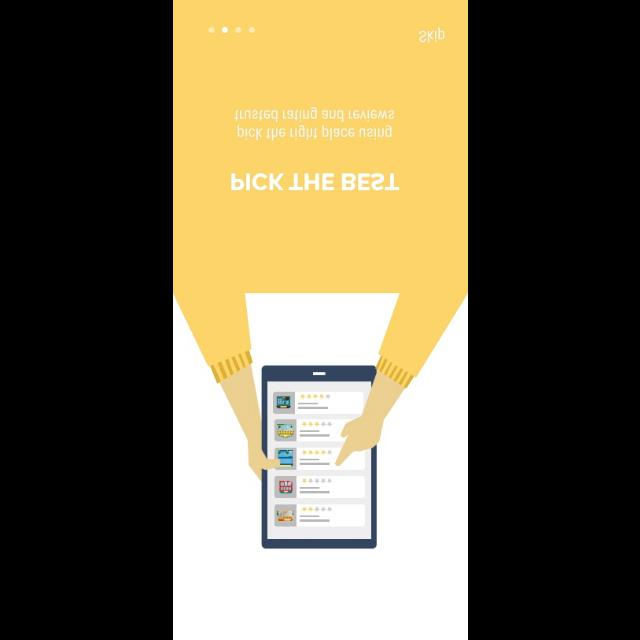image: (173, 294, 467, 548)
pageindicator: (207, 26, 255, 34)
text: (233, 106, 394, 140), (230, 173, 400, 191), (418, 27, 444, 43)
